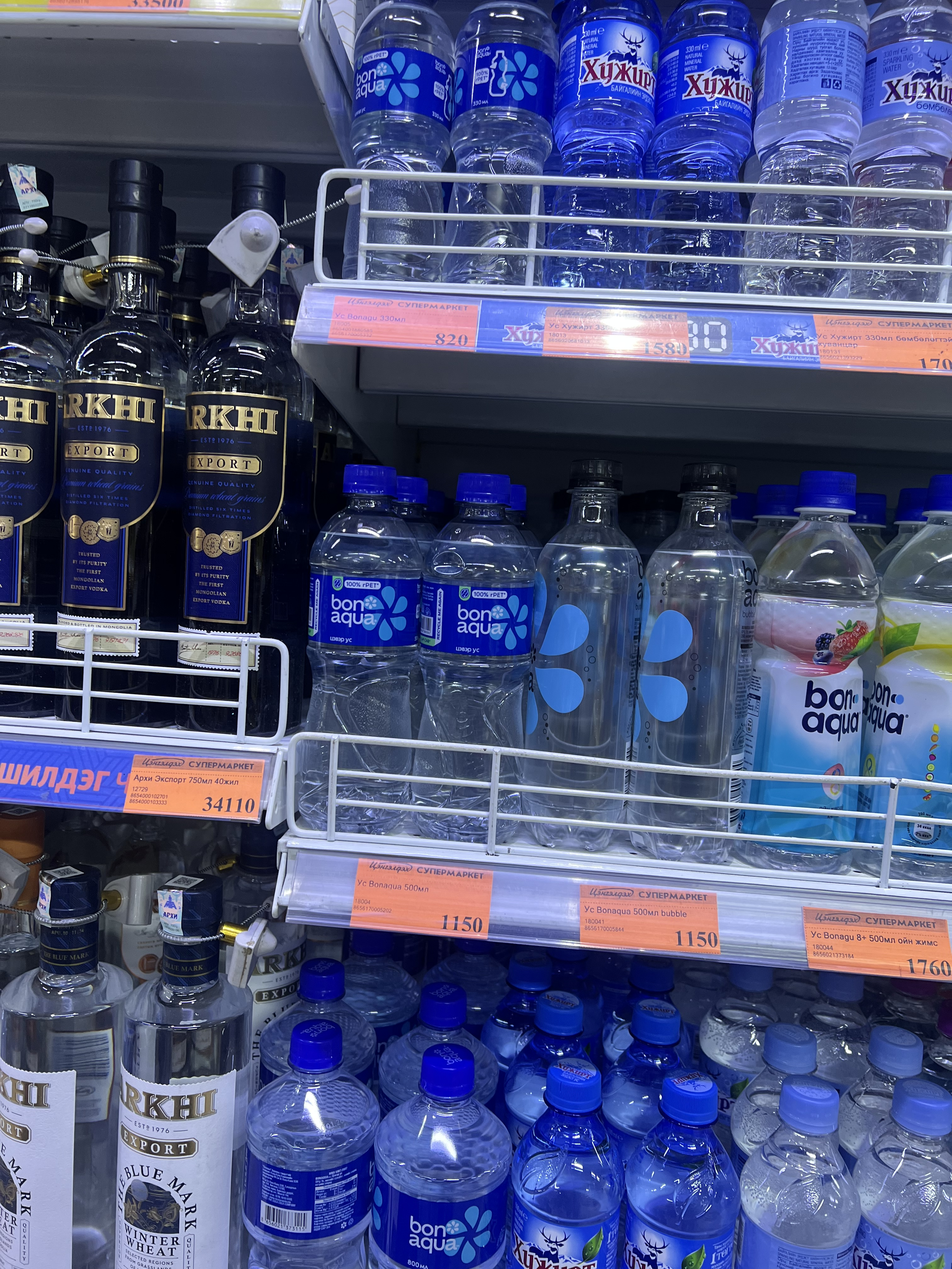bonaqua_500ml: (300, 445, 421, 836), (420, 454, 527, 843), (340, 0, 456, 289), (455, 1, 559, 296)
